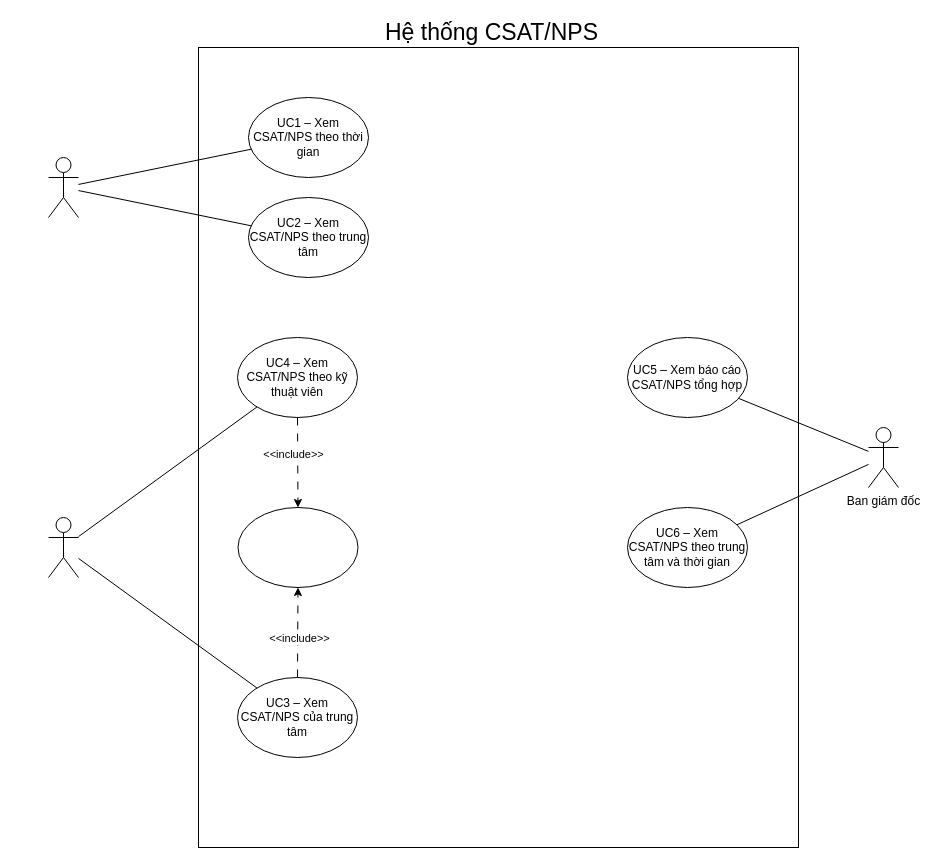
Some shapes in this 937 by 865 pixel diagram are drawn without their labels. The shapes that lost their labels are listed below. From the top down, each one's box as (x1, y1, x2, y2) in pixels, then its label:
(48, 156, 78, 218): Maketing
(48, 516, 78, 578): Quản lí trung tâm
(237, 506, 358, 588): UC7 – Kiểm soát phạm vi dữ liệu
